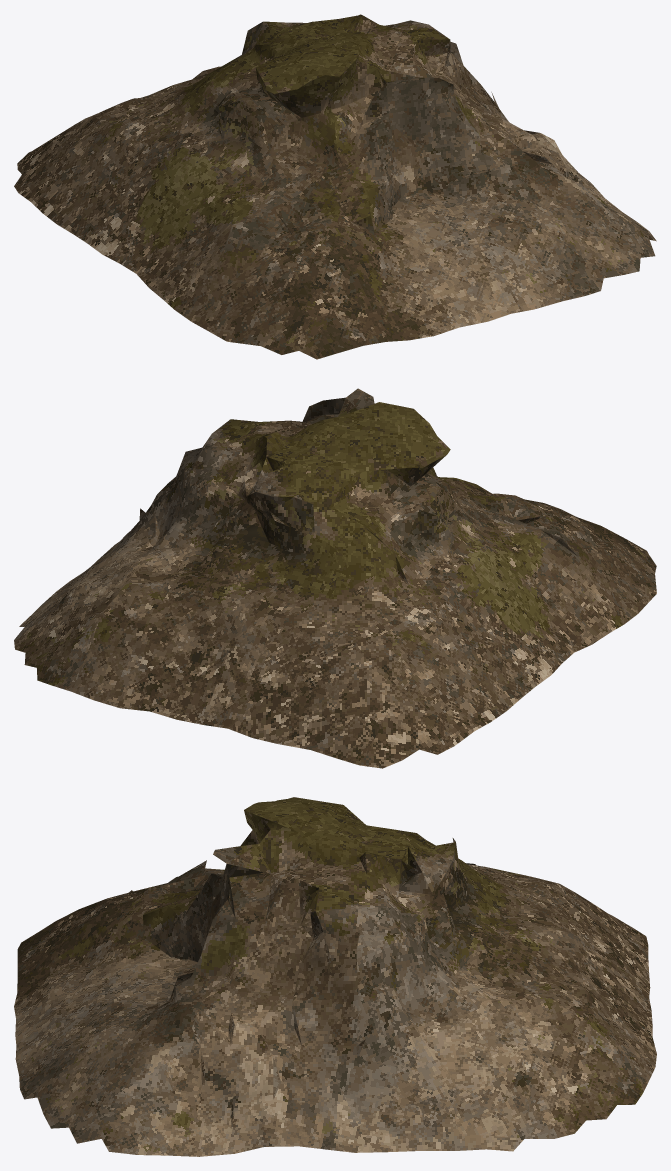
File: tree_stump_01.glb
The picture shows the model from 3 angles, top to bottom: view 1: azimuth 30°, elevation 25°; view 2: azimuth 150°, elevation 25°; view 3: azimuth 270°, elevation 25°; orthographic projection. The views are drawn at different scales.
Visible parts, largest first — view 1: mesh; view 2: mesh; view 3: mesh.
Boxes of the visible parts, <box> form: mesh: <box>14,14,656,359</box>; mesh: <box>14,388,656,768</box>; mesh: <box>14,797,656,1156</box>.
Bounding box in the file's own units: 1.41 × 0.5727 × 1.58.
1 material, 1 textured.
